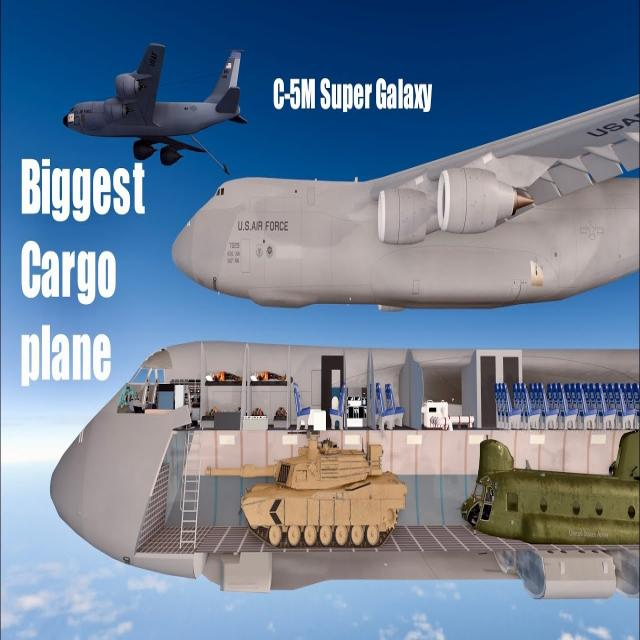C5: (181, 79, 640, 328), (52, 22, 262, 156)
